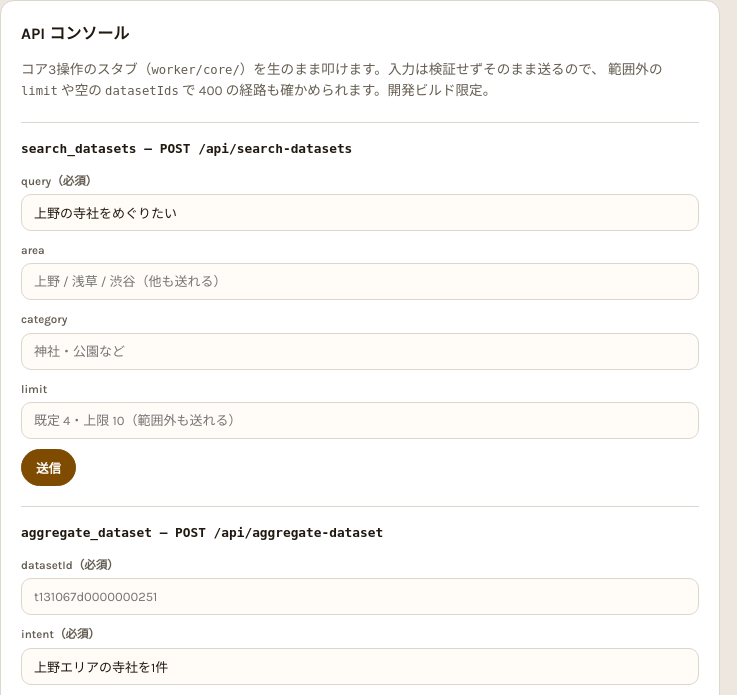
Test case: ApiConsole › 非 JSON の 200 は「応答を読めません」として alert 表示される（network と混ざらない）
The width and height of the screenshot is (737, 695).
Click the button "送信" below "category" at [48, 468], box [21,449,76,486]
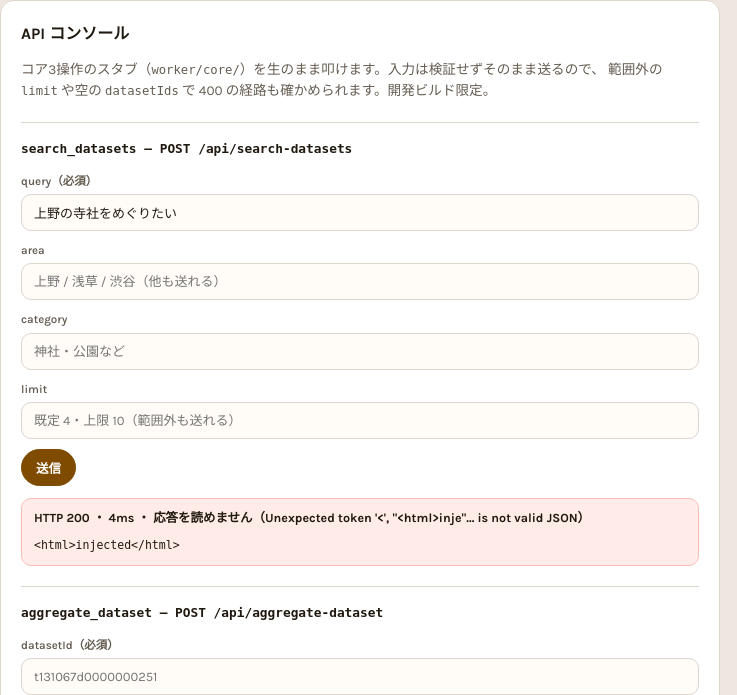
Expected: the message shows "応答を読めません", [34,511,590,525]
Expected: the text "<html>injected</html>" is shown, [34,538,180,552]
